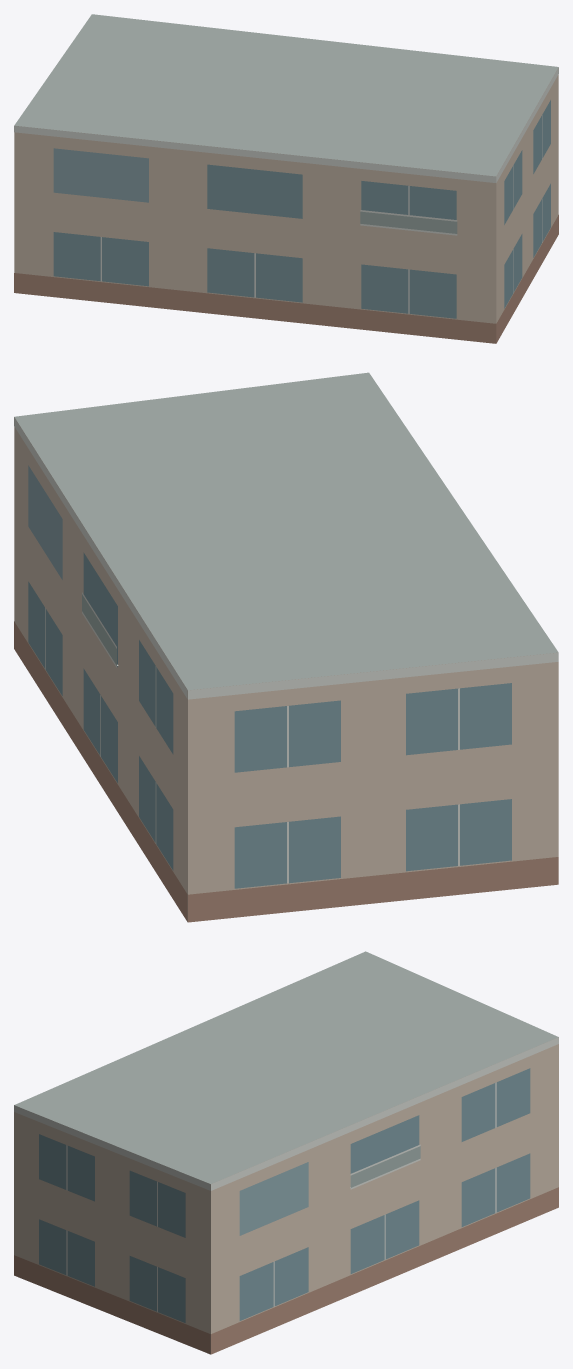
The model's file is survey-upis-32761975.glb.
The picture shows the model from 3 angles, top to bottom: view 1: azimuth 30°, elevation 25°; view 2: azimuth 150°, elevation 25°; view 3: azimuth 270°, elevation 25°; orthographic projection. The views are drawn at different scales.
Parts seen in each view (by area): view 1: survey-upis-32761975.tmp; view 2: survey-upis-32761975.tmp; view 3: survey-upis-32761975.tmp.
Boxes of the visible parts, x1,y1,x2,y2 form: survey-upis-32761975.tmp: [14, 14, 558, 343]; survey-upis-32761975.tmp: [14, 372, 558, 922]; survey-upis-32761975.tmp: [14, 951, 558, 1354].
Size of the model in its own units: 17.89 by 6.1 by 17.69.
